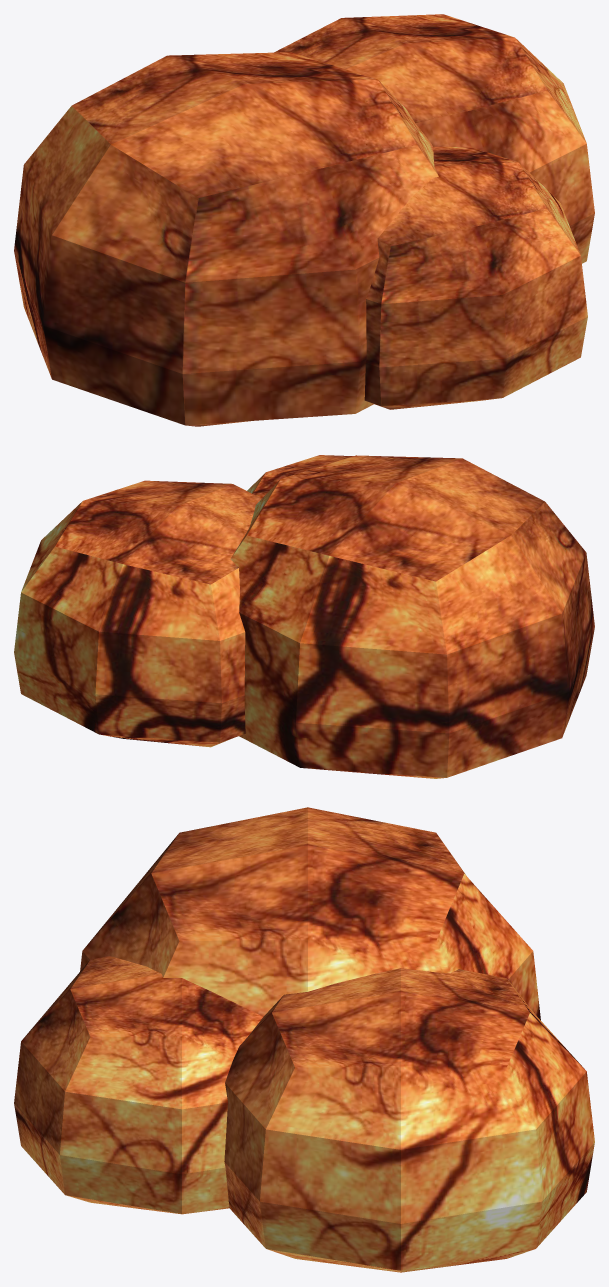
File: sm_fleshsac_5.glb
The picture shows the model from 3 angles, top to bottom: view 1: azimuth 30°, elevation 25°; view 2: azimuth 150°, elevation 25°; view 3: azimuth 270°, elevation 25°; orthographic projection. The views are drawn at different scales.
Parts seen in each view (by area): view 1: sm_fleshsac_5; view 2: sm_fleshsac_5; view 3: sm_fleshsac_5.
Boxes of the visible parts, x1,y1,x2,y2 form: sm_fleshsac_5: (14, 14, 594, 426); sm_fleshsac_5: (14, 455, 594, 778); sm_fleshsac_5: (14, 807, 594, 1272).
Size of the model in its own units: 3.53 by 1.65 by 3.05.
1 material, 1 textured.
